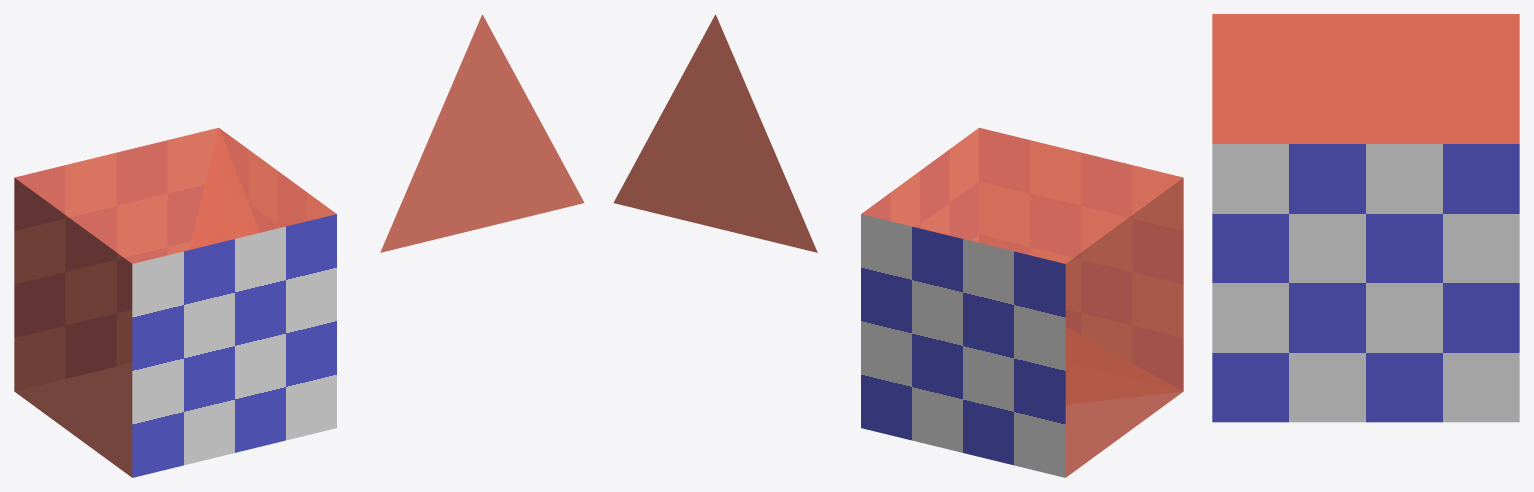
The model's file is sample-cube.obj.
3 renders of one model, left to right at view 1: azimuth 30°, elevation 25°; view 2: azimuth 150°, elevation 25°; view 3: azimuth 270°, elevation 25°, orthographic. The views are drawn at different scales.
Parts seen in each view (by area): view 1: Cube, Tri; view 2: Cube, Tri; view 3: Cube.
Boxes of the visible parts, x1,y1,x2,y2 form: Cube: (14,127,336,477); Tri: (380,14,584,252); Cube: (861,127,1183,477); Tri: (613,14,817,252); Cube: (1212,14,1519,422).
Bounding box in the file's own units: 2.5 × 1.5 × 1.
2 materials, 1 textured.
